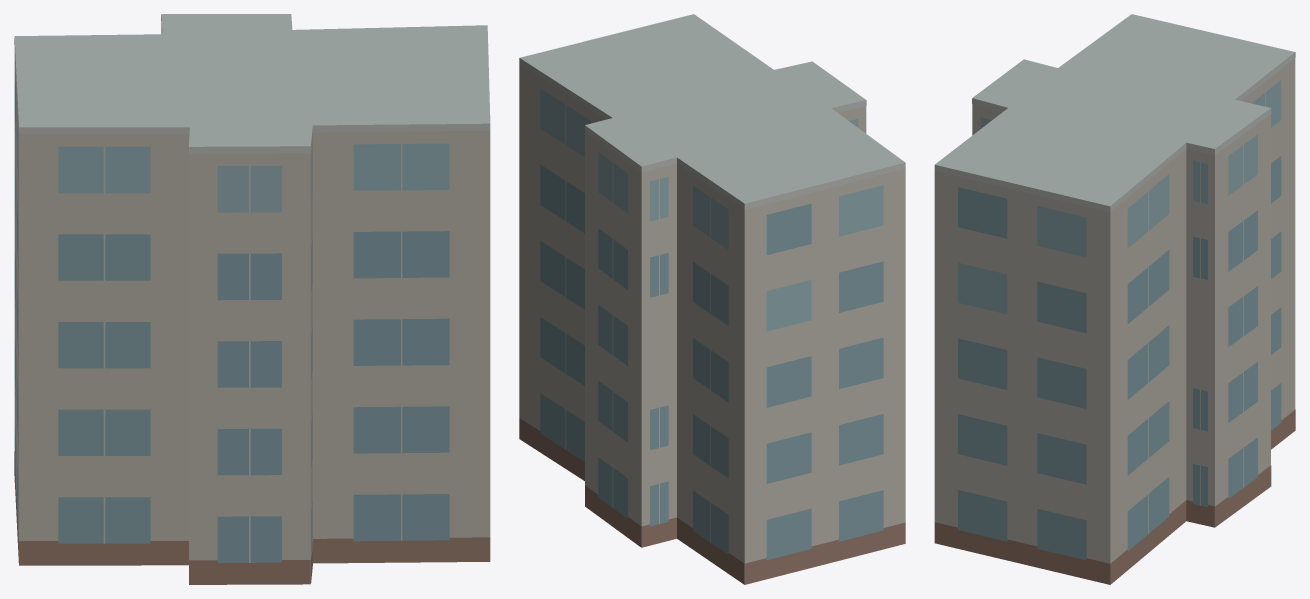
Rendered from survey-upis-32846938.glb.
3 views of the same model, side by side, from view 1: azimuth 30°, elevation 25°; view 2: azimuth 150°, elevation 25°; view 3: azimuth 270°, elevation 25° (orthographic). The views are drawn at different scales.
Parts seen in each view (by area): view 1: survey-upis-32846938.tmp; view 2: survey-upis-32846938.tmp; view 3: survey-upis-32846938.tmp.
Boxes of the visible parts, bbox=[...] form: survey-upis-32846938.tmp: bbox=[14, 14, 490, 584]; survey-upis-32846938.tmp: bbox=[519, 14, 905, 584]; survey-upis-32846938.tmp: bbox=[934, 14, 1295, 584].
Size of the model in its own units: 16.63 by 15.25 by 13.18.
